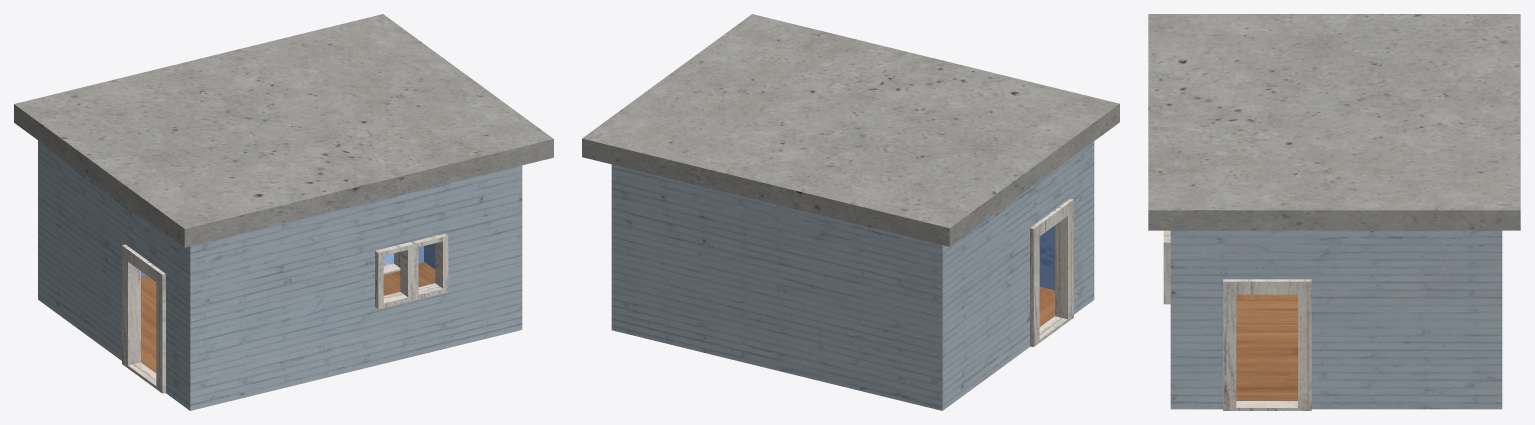
File: house ver7.FBX
3 views of the same model, side by side, from view 1: azimuth 30°, elevation 25°; view 2: azimuth 150°, elevation 25°; view 3: azimuth 270°, elevation 25° (orthographic). The views are drawn at different scales.
Parts seen in each view (by area): view 1: house ver7; view 2: house ver7; view 3: house ver7.
Part boxes in pixels (left/top/right/bottom): house ver7: left=14, top=14, right=553, bottom=410; house ver7: left=582, top=14, right=1119, bottom=410; house ver7: left=1148, top=14, right=1520, bottom=410.
Bounding box in the file's own units: 625 × 313 × 501.
